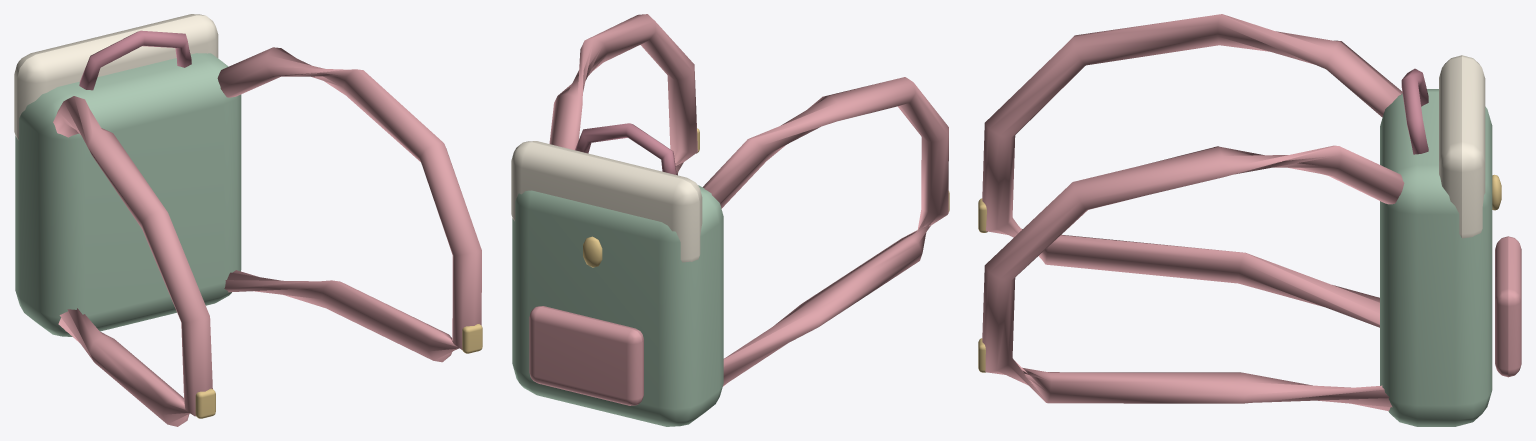
File: mini_backpack.glb
3 renders of one model, left to right at view 1: azimuth 30°, elevation 25°; view 2: azimuth 150°, elevation 25°; view 3: azimuth 270°, elevation 25°, orthographic. The views are drawn at different scales.
Visible parts, largest first — view 1: Sage backpack body, Rose shoulder strap 1, Rose shoulder strap 0, Cream backpack flap, Backpack carry handle, Gold strap buckle 0, Gold strap buckle 1; view 2: Sage backpack body, Rose shoulder strap 0, Cream backpack flap, Rose backpack pocket, Rose shoulder strap 1, Backpack carry handle, Gold backpack clasp; view 3: Sage backpack body, Rose shoulder strap 0, Rose shoulder strap 1, Cream backpack flap, Rose backpack pocket, Backpack carry handle.
Part boxes in pixels (x1=…): Sage backpack body: x1=15, y1=53, x2=241, y2=336; Rose shoulder strap 1: x1=217, y1=47, x2=481, y2=362; Rose shoulder strap 0: x1=53, y1=96, x2=212, y2=426; Cream backpack flap: x1=14, y1=14, x2=218, y2=139; Backpack carry handle: x1=79, y1=30, x2=191, y2=90; Gold strap buckle 0: x1=195, y1=388, x2=215, y2=418; Gold strap buckle 1: x1=462, y1=324, x2=482, y2=353; Sage backpack body: x1=512, y1=185, x2=723, y2=426; Rose shoulder strap 0: x1=703, y1=77, x2=948, y2=386; Cream backpack flap: x1=511, y1=141, x2=702, y2=262; Rose backpack pocket: x1=529, y1=306, x2=643, y2=405; Rose shoulder strap 1: x1=549, y1=14, x2=697, y2=175; Backpack carry handle: x1=575, y1=123, x2=676, y2=174; Gold backpack clasp: x1=583, y1=236, x2=602, y2=267; Sage backpack body: x1=1380, y1=89, x2=1492, y2=426; Rose shoulder strap 0: x1=982, y1=14, x2=1402, y2=327; Rose shoulder strap 1: x1=982, y1=145, x2=1404, y2=411; Cream backpack flap: x1=1439, y1=55, x2=1485, y2=238; Rose backpack pocket: x1=1495, y1=236, x2=1521, y2=377; Backpack carry handle: x1=1401, y1=68, x2=1428, y2=154.
Size of the model in its own units: 0.4978 by 0.453 by 0.716.
